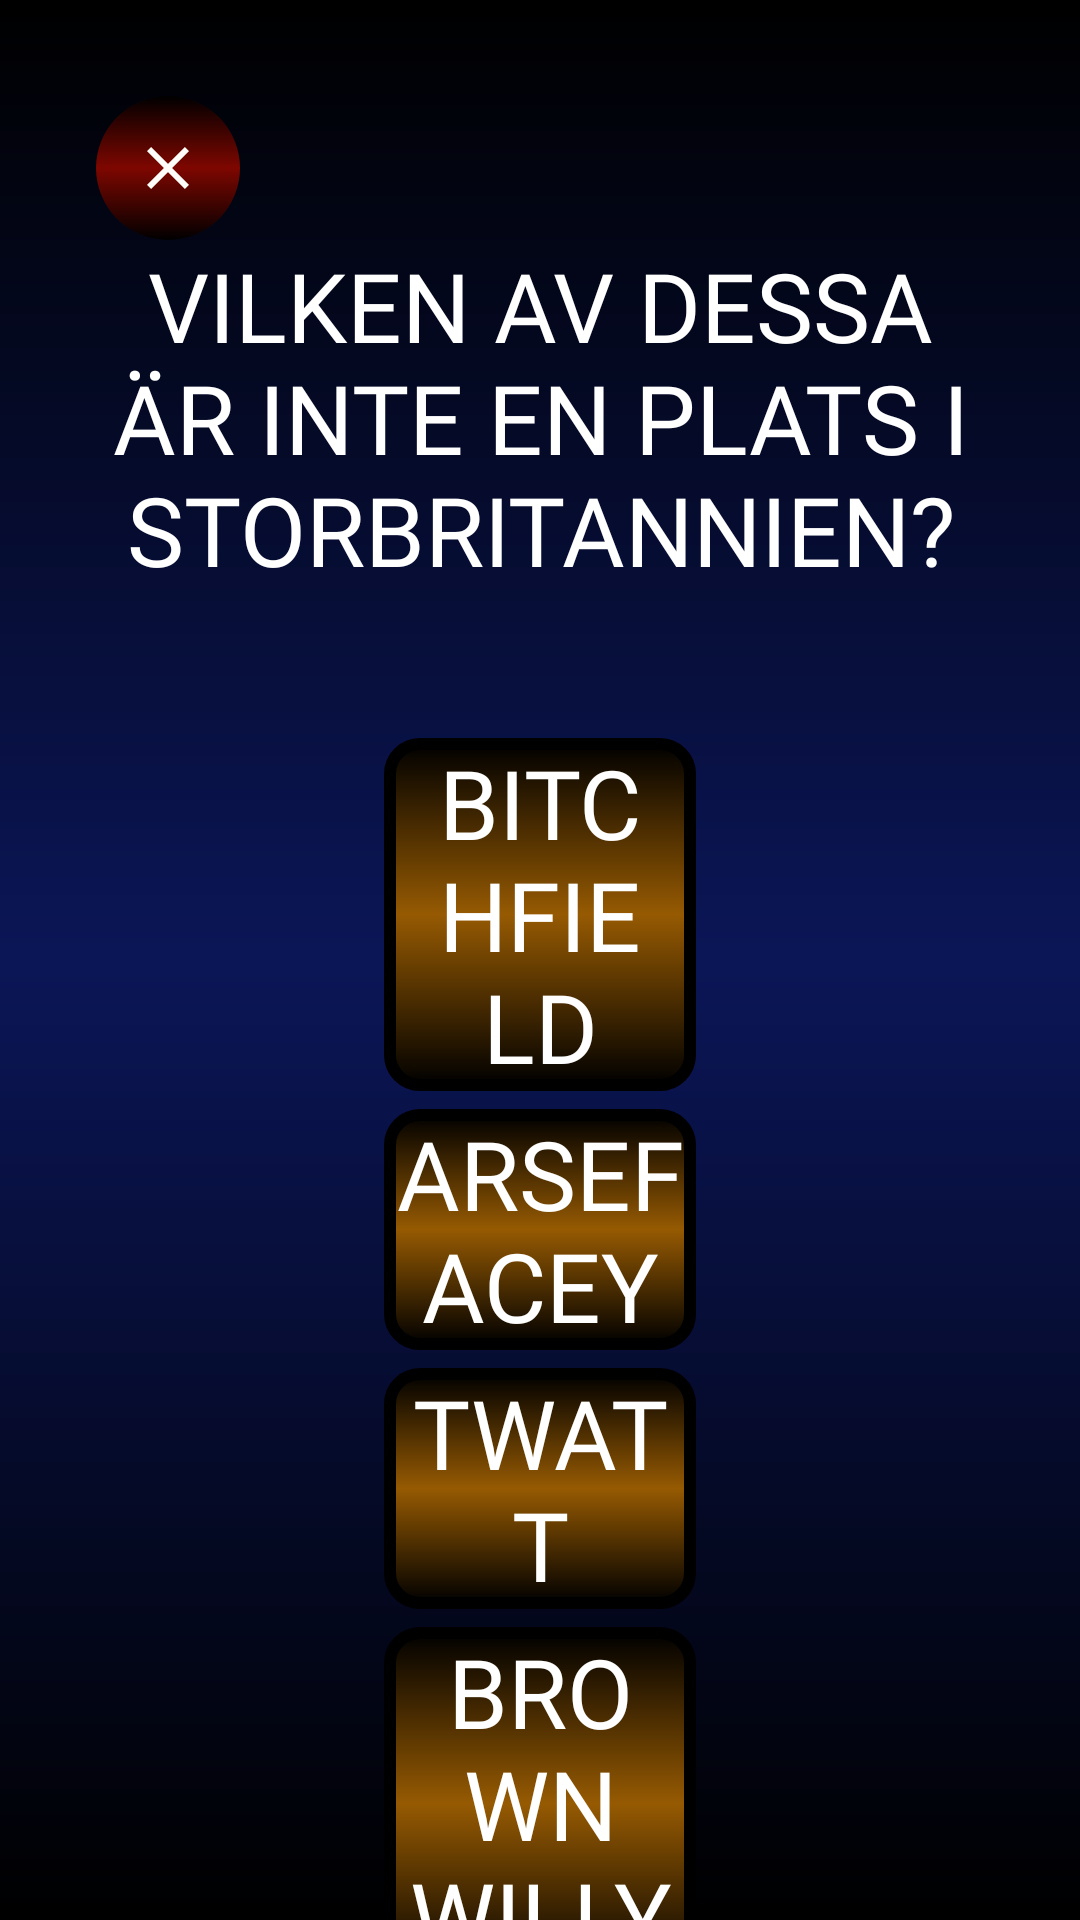

Point at icon controls on the screen. Image size 1080 x 1920, points as [x,y].
close: [168,168]
